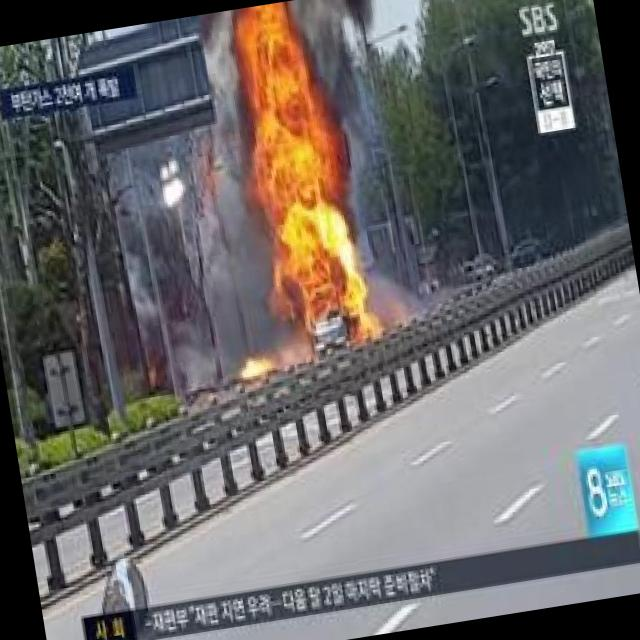Fire: (212, 0, 390, 368), (241, 354, 279, 378)
